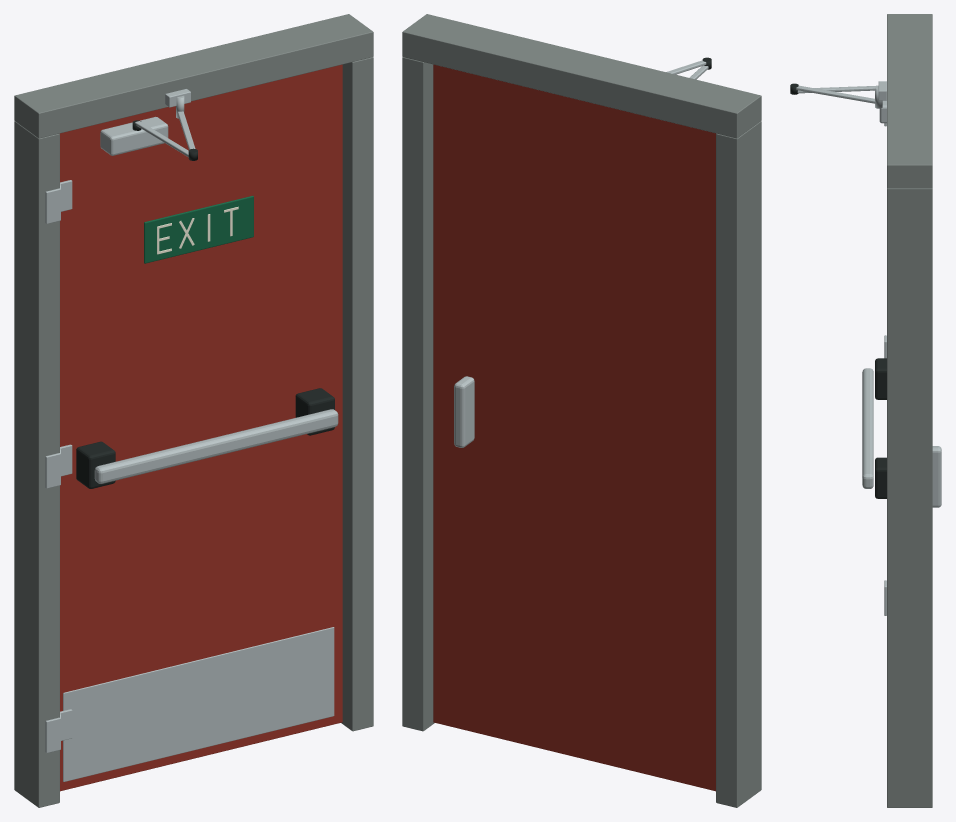
3 renders of one model, left to right at view 1: azimuth 30°, elevation 25°; view 2: azimuth 150°, elevation 25°; view 3: azimuth 270°, elevation 25°, orthographic. The views are drawn at different scales.
Parts seen in each view (by area): view 1: MODULE_DoorLeaf, FRAME_LeftJamb, MODULE_KickPlate, FRAME_RightJamb, FRAME_Head, MODULE_HorizontalPushBar, MODULE_ExitPlaque, MODULE_CloserBody, MODULE_PushBarMountLeft, MODULE_PushBarMountRight; view 2: MODULE_DoorLeaf, FRAME_LeftJamb, FRAME_RightJamb, FRAME_Head, MODULE_RearPullHandle; view 3: FRAME_RightJamb, FRAME_Head, MODULE_HorizontalPushBar, MODULE_RearPullHandle, MODULE_PushBarMountLeft, MODULE_PushBarMountRight, MODULE_CloserArmFrame, MODULE_CloserArmLeaf.
Part boxes in pixels (<box>): MODULE_DoorLeaf: <box>60,64,342,791</box>; FRAME_LeftJamb: <box>14,121,59,807</box>; MODULE_KickPlate: <box>63,627,334,781</box>; FRAME_RightJamb: <box>341,57,373,731</box>; FRAME_Head: <box>14,14,373,138</box>; MODULE_HorizontalPushBar: <box>94,409,338,483</box>; MODULE_ExitPlaque: <box>144,195,253,263</box>; MODULE_CloserBody: <box>100,116,168,155</box>; MODULE_PushBarMountLeft: <box>76,441,115,488</box>; MODULE_PushBarMountRight: <box>295,388,334,435</box>; MODULE_DoorLeaf: <box>433,64,715,791</box>; FRAME_LeftJamb: <box>716,121,761,807</box>; FRAME_RightJamb: <box>402,57,434,731</box>; FRAME_Head: <box>402,14,761,138</box>; MODULE_RearPullHandle: <box>454,376,474,447</box>; FRAME_RightJamb: <box>887,188,932,807</box>; FRAME_Head: <box>887,14,932,188</box>; MODULE_HorizontalPushBar: <box>862,368,873,488</box>; MODULE_RearPullHandle: <box>932,446,941,507</box>; MODULE_PushBarMountLeft: <box>875,358,886,399</box>; MODULE_PushBarMountRight: <box>875,457,886,498</box>; MODULE_CloserArmFrame: <box>796,85,875,103</box>; MODULE_CloserArmLeaf: <box>797,85,878,93</box>.
Size of the model in its own units: 1.1 by 2.18 by 0.465.
